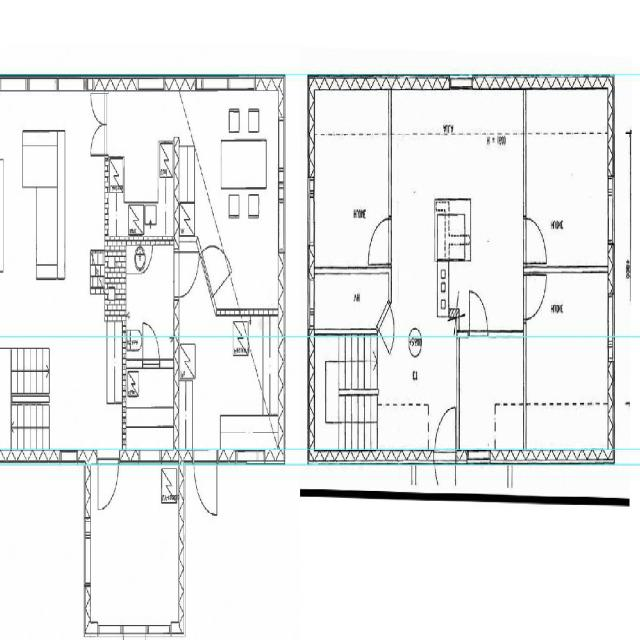door: (200, 225, 233, 299), (194, 450, 217, 516), (377, 302, 401, 354), (98, 450, 119, 509), (435, 450, 455, 510), (435, 405, 455, 464), (174, 252, 199, 296), (523, 276, 546, 320), (523, 218, 546, 262), (369, 219, 392, 263), (469, 290, 488, 338), (146, 322, 162, 368), (90, 124, 108, 156), (90, 94, 108, 124), (124, 622, 146, 640)
